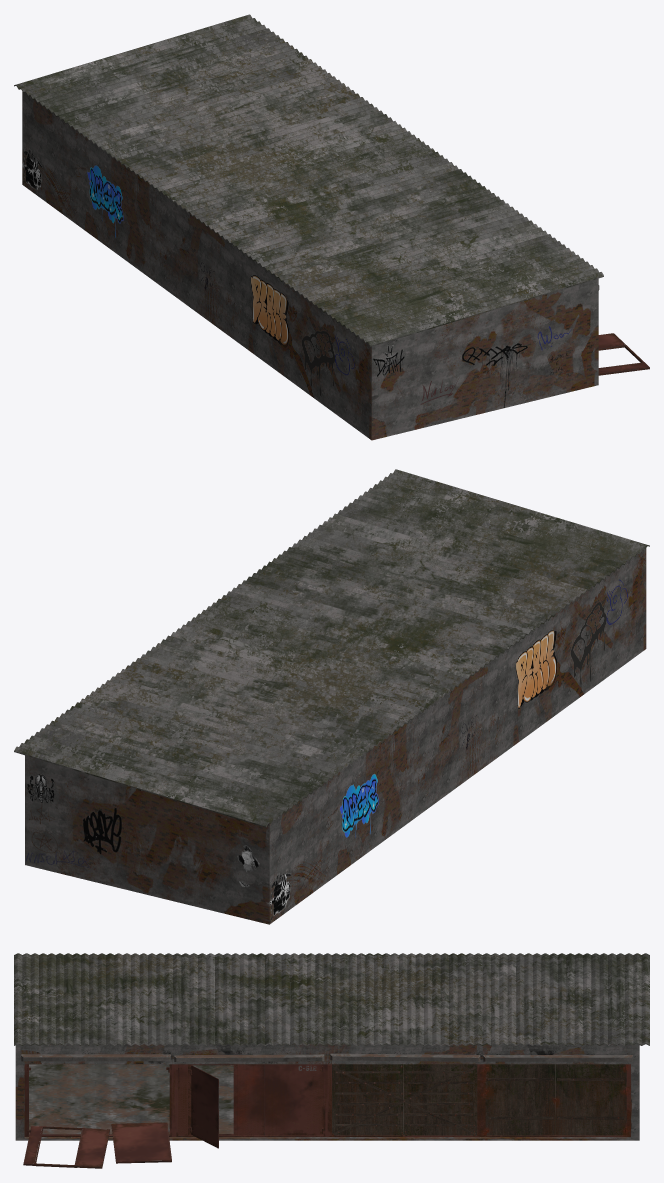
3 renders of one model, top to bottom at view 1: azimuth 30°, elevation 25°; view 2: azimuth 150°, elevation 25°; view 3: azimuth 270°, elevation 25°, orthographic. The views are drawn at different scales.
Visible parts, largest first — view 1: shifer, Garage_box, Garage_vorota; view 2: shifer, Garage_box; view 3: shifer, Garage_vorota, Garage_box.
Boxes of the visible parts, left/top/right/bottom form: shifer: left=14, top=14, right=603, bottom=346; Garage_box: left=22, top=92, right=599, bottom=440; Garage_vorota: left=598, top=333, right=649, bottom=375; shifer: left=14, top=469, right=649, bottom=827; Garage_box: left=25, top=548, right=646, bottom=924; shifer: left=14, top=953, right=649, bottom=1045; Garage_vorota: left=23, top=1064, right=630, bottom=1168; Garage_box: left=15, top=1044, right=639, bottom=1140.
Size of the model in its own units: 7.74 by 2.85 by 16.31.
3 materials, 3 textured.
